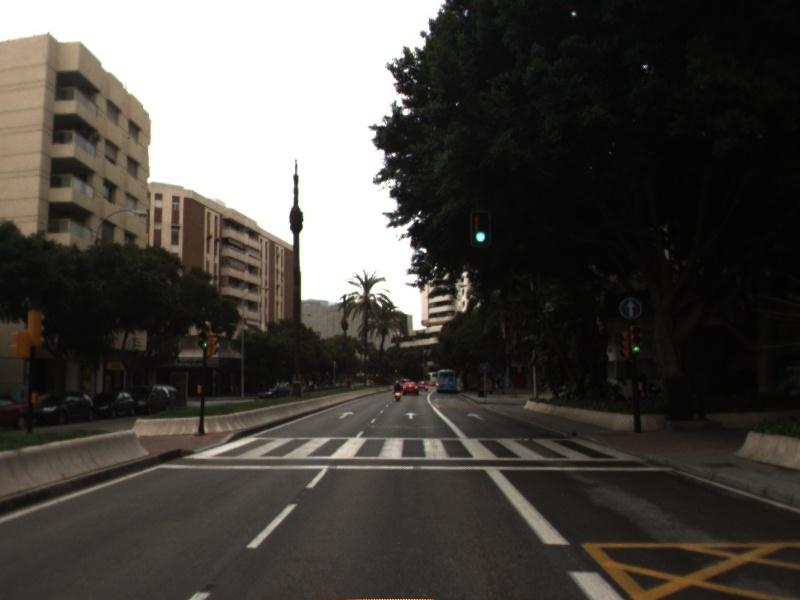STRAIGHT: (464, 410, 486, 422), (336, 409, 357, 421), (401, 410, 420, 421)
